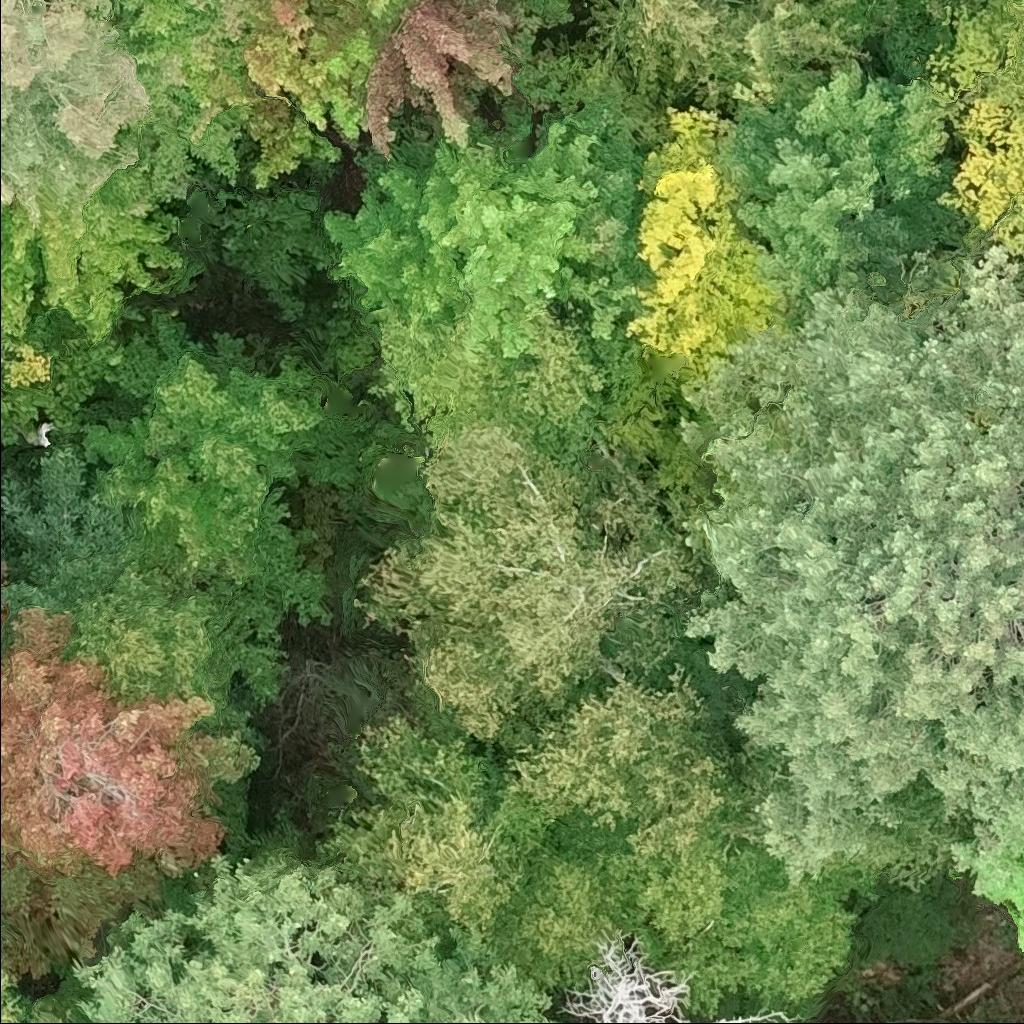crown: (678, 244, 1023, 883), (351, 414, 717, 750), (322, 89, 652, 359), (73, 846, 574, 1023), (497, 655, 770, 966), (316, 713, 626, 986), (0, 555, 256, 884), (81, 342, 332, 625), (713, 58, 966, 295), (155, 0, 420, 192), (71, 506, 288, 733), (624, 104, 792, 386), (0, 0, 160, 224), (363, 0, 577, 160), (677, 848, 878, 1015), (0, 165, 185, 343), (584, 0, 870, 109), (552, 926, 811, 1023), (0, 437, 130, 607), (126, 38, 250, 205), (937, 94, 1023, 289), (851, 0, 970, 76), (953, 838, 1023, 956), (974, 0, 1023, 104), (0, 245, 41, 337), (115, 0, 197, 39), (0, 958, 33, 1023), (0, 398, 8, 421)
